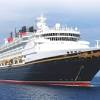tau_dansu: (2, 24, 100, 87)
